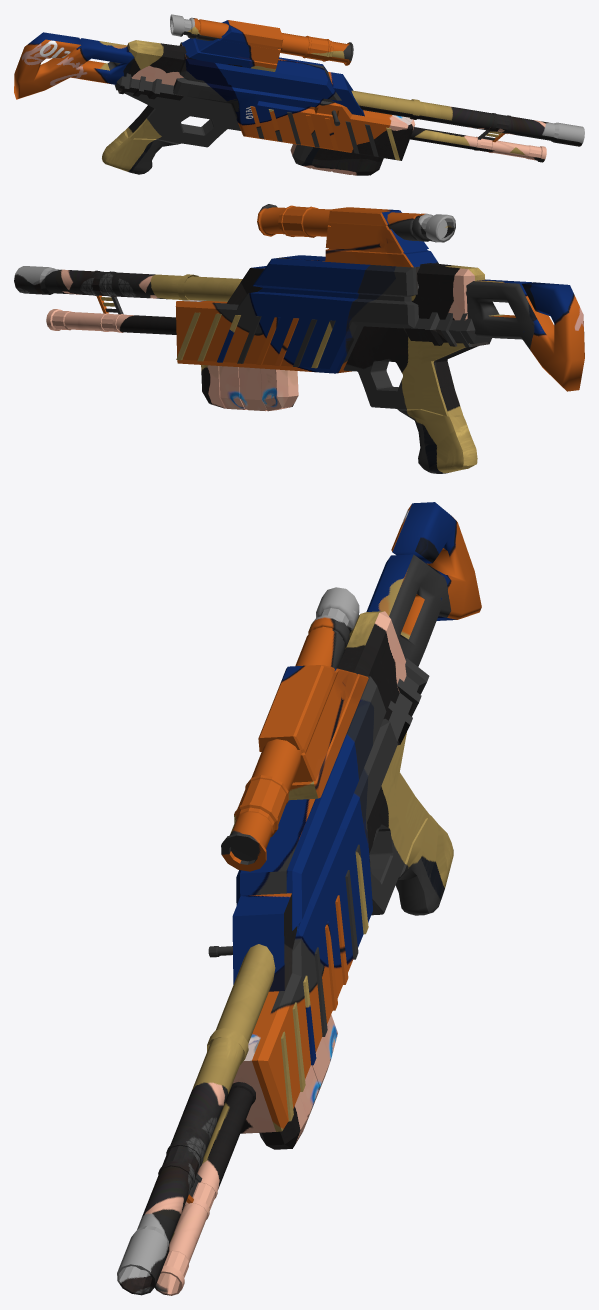
Rendered from gun_anim.fbx.
The picture shows the model from 3 angles, top to bottom: view 1: azimuth 30°, elevation 25°; view 2: azimuth 150°, elevation 25°; view 3: azimuth 270°, elevation 25°; orthographic projection. The views are drawn at different scales.
Parts seen in each view (by area): view 1: gun:pCube30; view 2: gun:pCube30; view 3: gun:pCube30.
Part boxes in pixels (bbox=[...]): gun:pCube30: bbox=[14, 14, 584, 175]; gun:pCube30: bbox=[14, 204, 584, 473]; gun:pCube30: bbox=[117, 502, 481, 1295].
Size of the model in its own units: 66.4 by 25.21 by 21.42.
